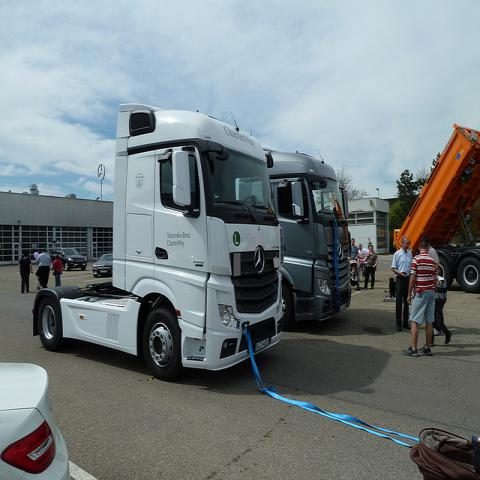car: (1, 361, 70, 474), (50, 248, 88, 272), (93, 254, 112, 274)
truck: (32, 101, 287, 381), (262, 145, 354, 324), (393, 125, 479, 291)
